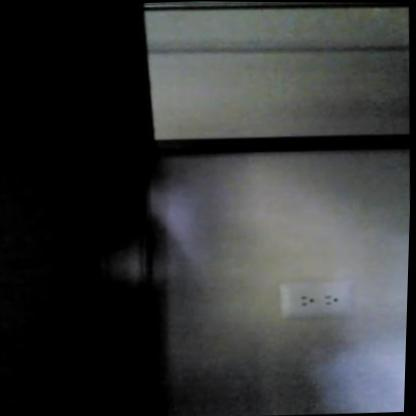OUTLET: (276, 279, 354, 321)
